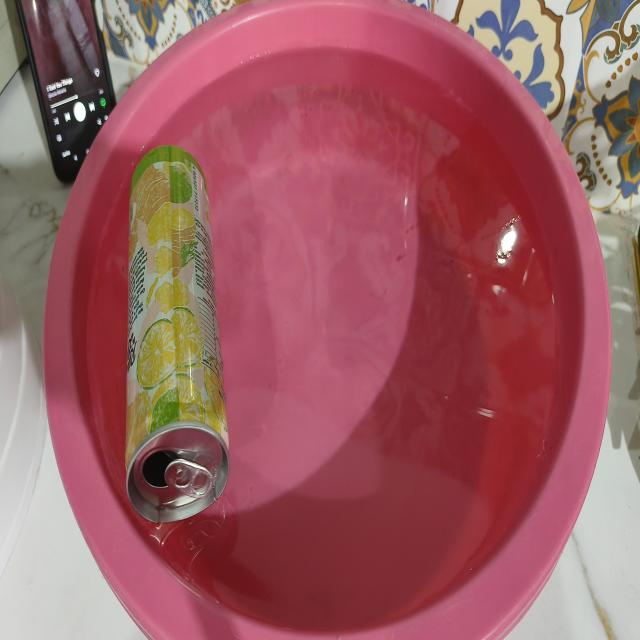Aluminum Can: (126, 161, 229, 522)
